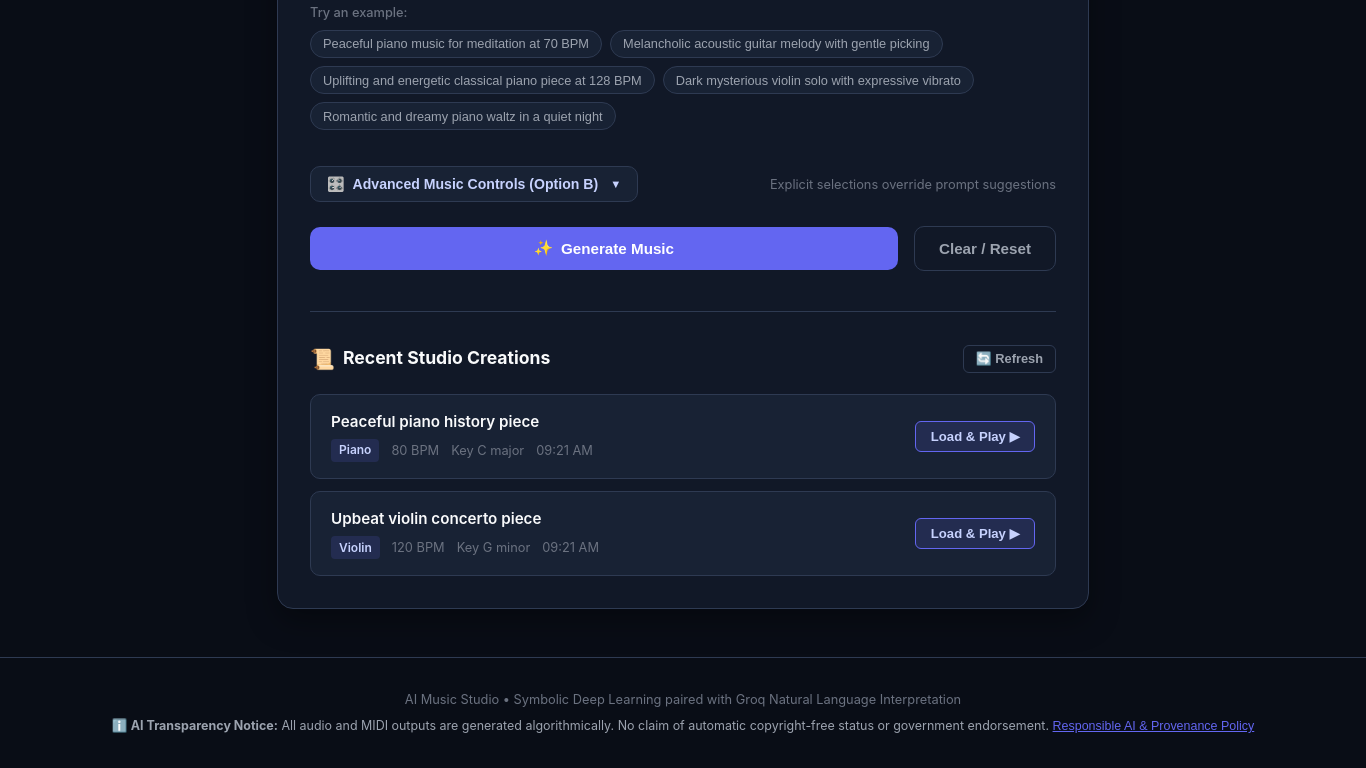
Test: Frontend AI Music Studio Component Tests › handles missing or unplayable audio file with error banner without crashing
(page scrolled)
Check: the text "Peaceful piano history piece" is shown, box [331,411,539,433]
Step 1. Click the button "Load & Play ▶" in the row of "Peaceful piano history piece" → (975,436), box [916,420,1035,452]
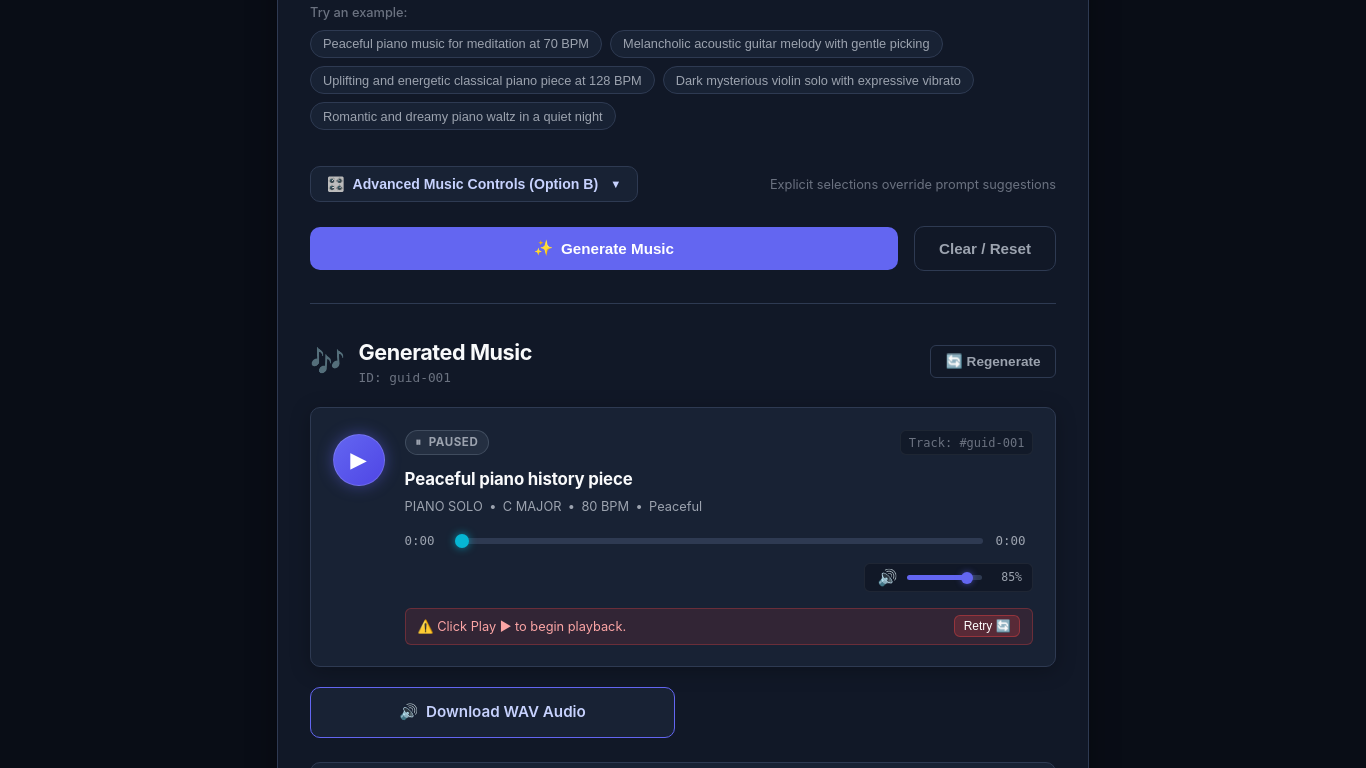
Check: the text "⚠️ Click Play ▶ to begin playback." is shown, box [418,617,626,636]
